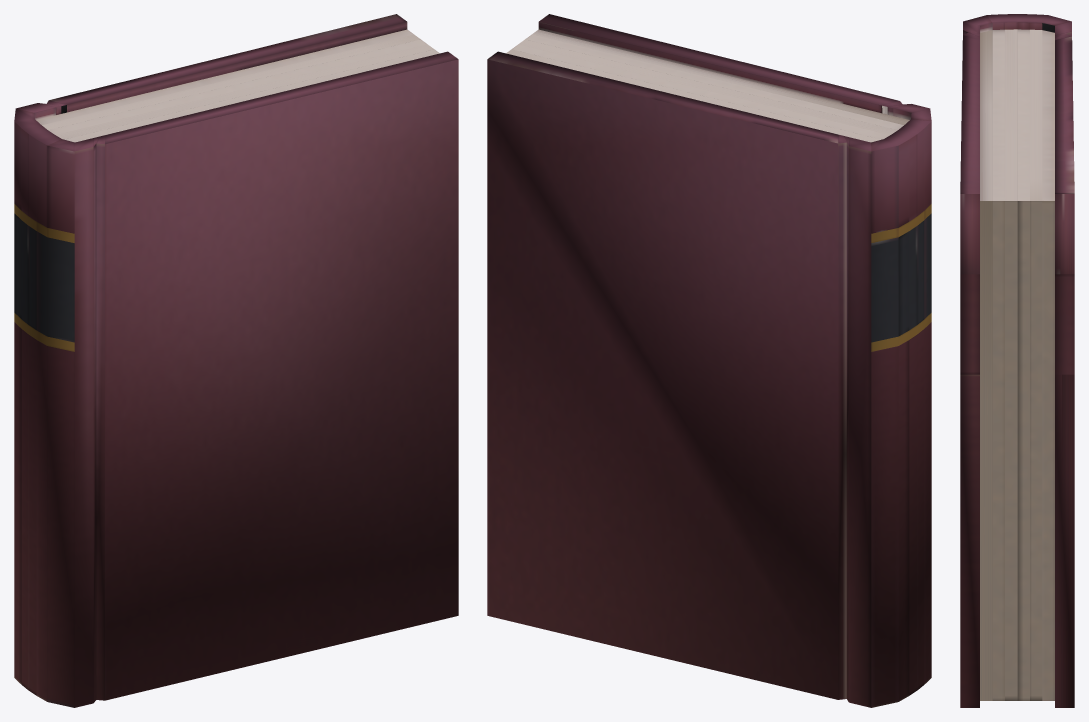
The model's file is book01.fbx.
The picture shows the model from 3 angles, left to right: view 1: azimuth 30°, elevation 25°; view 2: azimuth 150°, elevation 25°; view 3: azimuth 270°, elevation 25°; orthographic projection. The views are drawn at different scales.
Visible parts, largest first — view 1: Cube.002; view 2: Cube.002; view 3: Cube.002.
Boxes of the visible parts, x1,y1,x2,y2 form: Cube.002: (14,14,458,707); Cube.002: (487,14,931,707); Cube.002: (960,14,1074,707).
Size of the model in its own units: 0.1507 by 0.0405 by 0.2007.
Materials: 1 (1 with a texture image).
